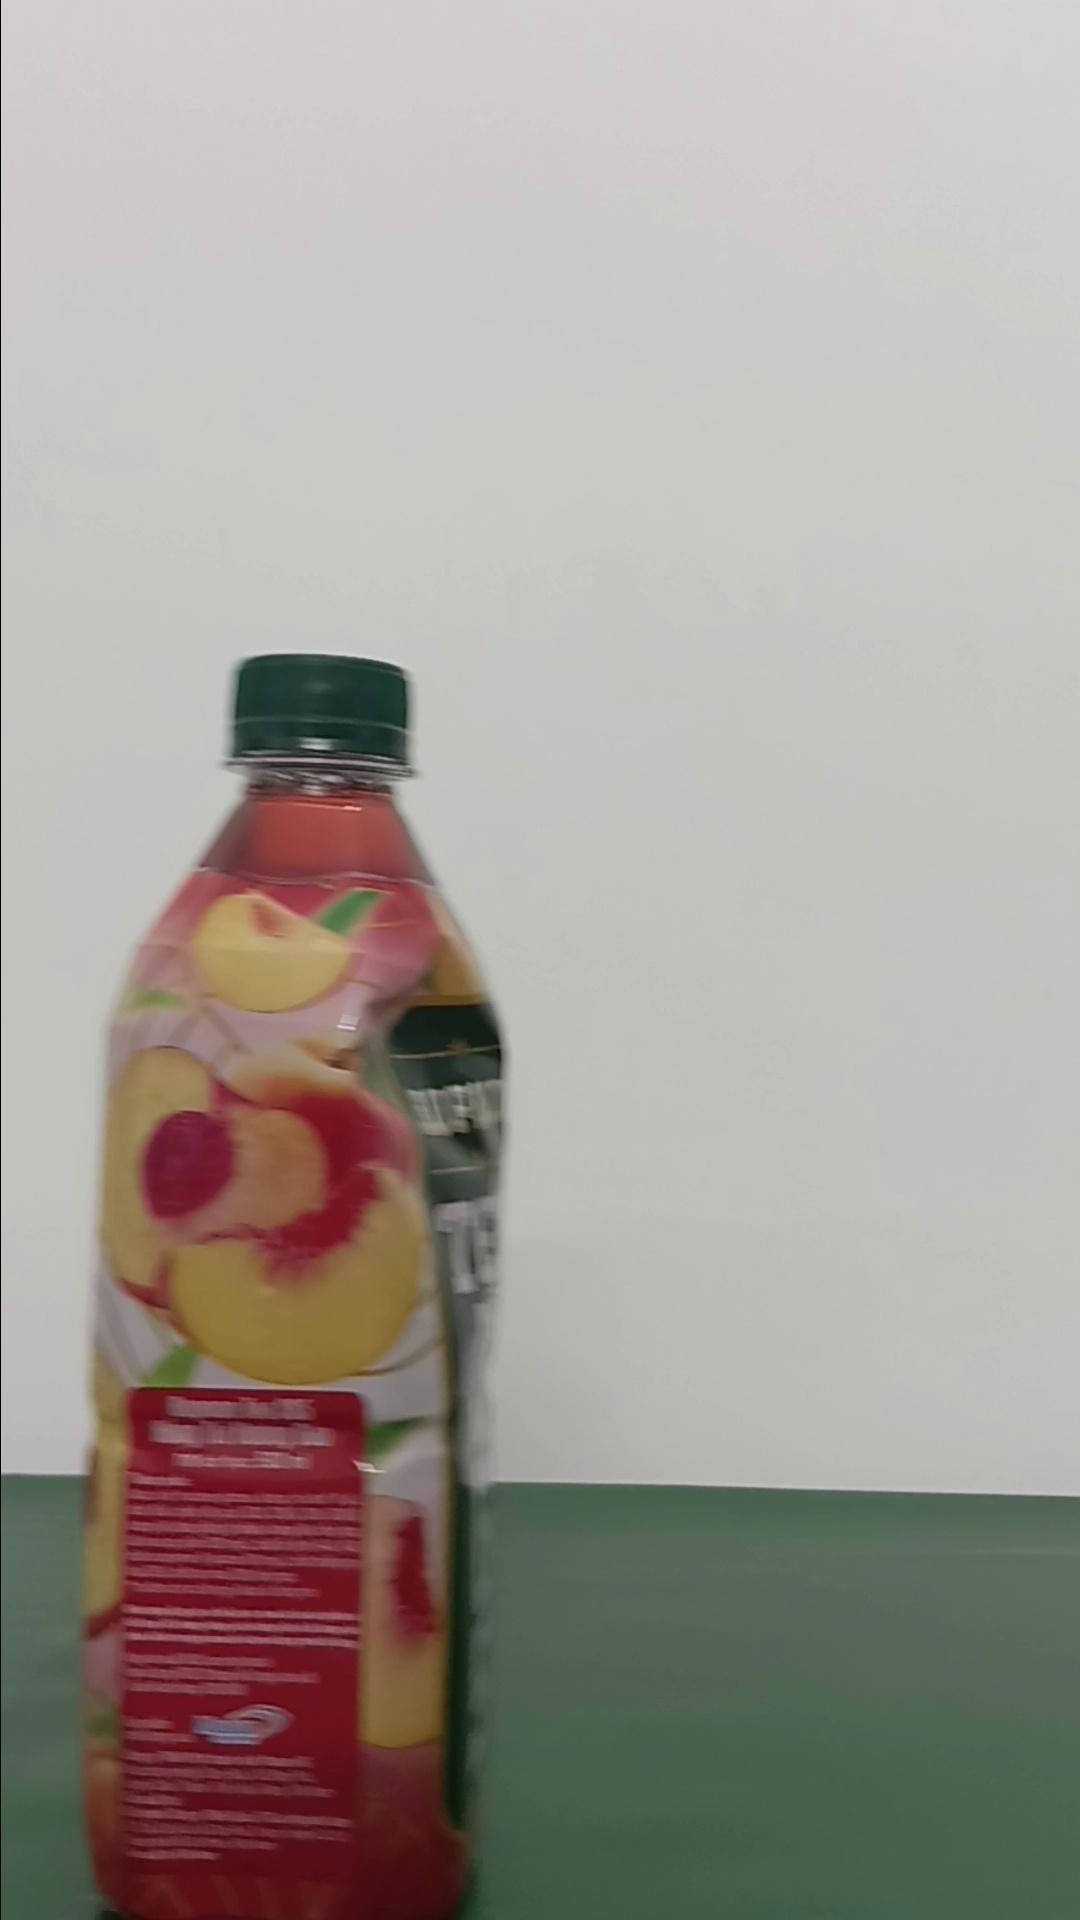loi meo sp: (76, 650, 506, 1913)
